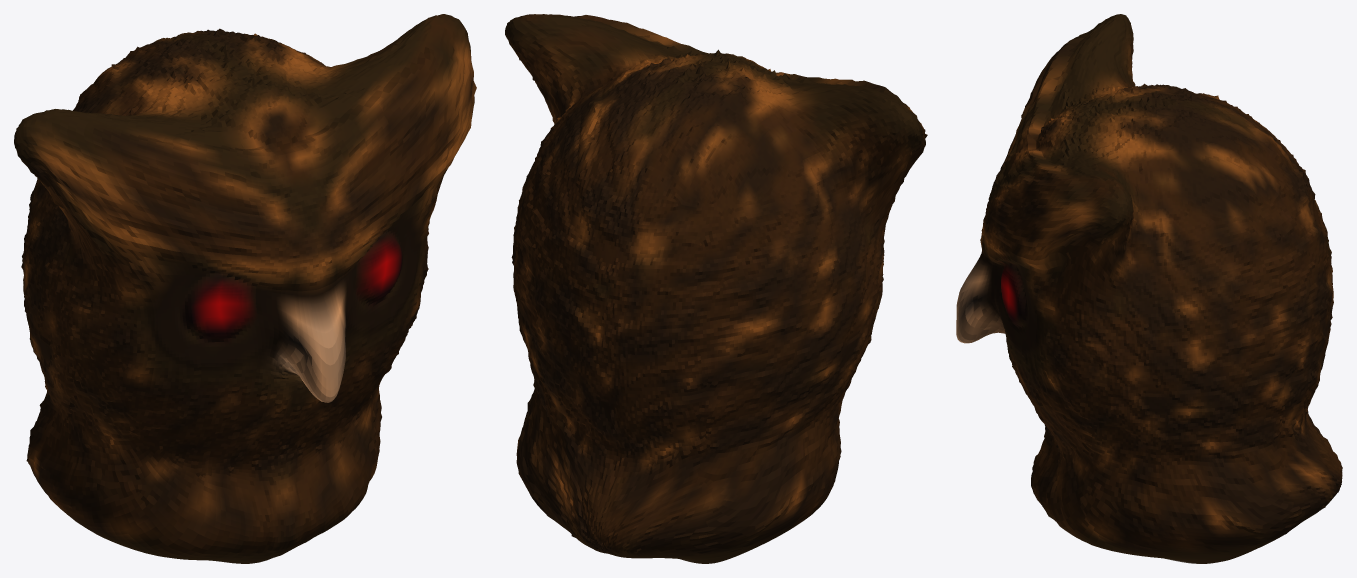
The model's file is OWL_LOD0.fbx.
The picture shows the model from 3 angles, left to right: view 1: azimuth 30°, elevation 25°; view 2: azimuth 150°, elevation 25°; view 3: azimuth 270°, elevation 25°; orthographic projection. The views are drawn at different scales.
Visible parts, largest first — view 1: polySurface6; view 2: polySurface6; view 3: polySurface6.
Part boxes in pixels (<box>): polySurface6: <box>14,14,476,563</box>; polySurface6: <box>505,14,927,563</box>; polySurface6: <box>956,14,1342,563</box>.
Size of the model in its own units: 4.19 by 4.49 by 3.52.
